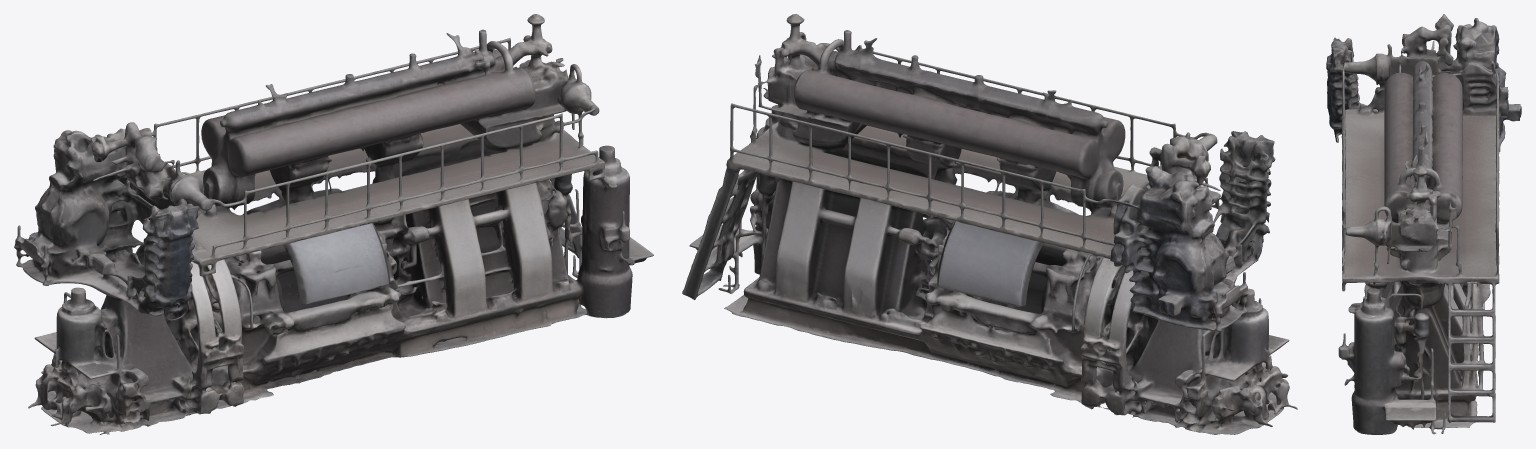
File: maqui (1).glb
The picture shows the model from 3 angles, left to right: view 1: azimuth 30°, elevation 25°; view 2: azimuth 150°, elevation 25°; view 3: azimuth 270°, elevation 25°; orthographic projection. The views are drawn at different scales.
Size of the model in its own units: 1.77 by 0.8223 by 0.5919.
Materials: 1 (1 with a texture image).
